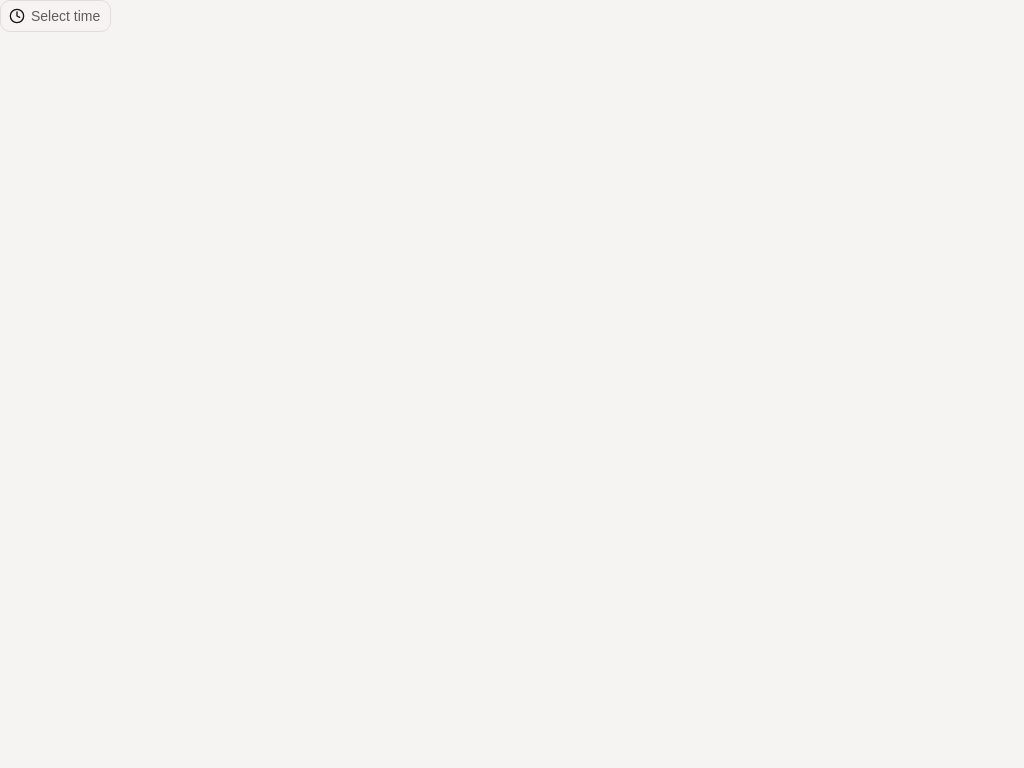
Test: TimePicker › keyboard › selects with Enter
This screenshot has width=1024, height=768.
Click the button: [56, 16] box x1=0 y1=0 x2=111 y2=32
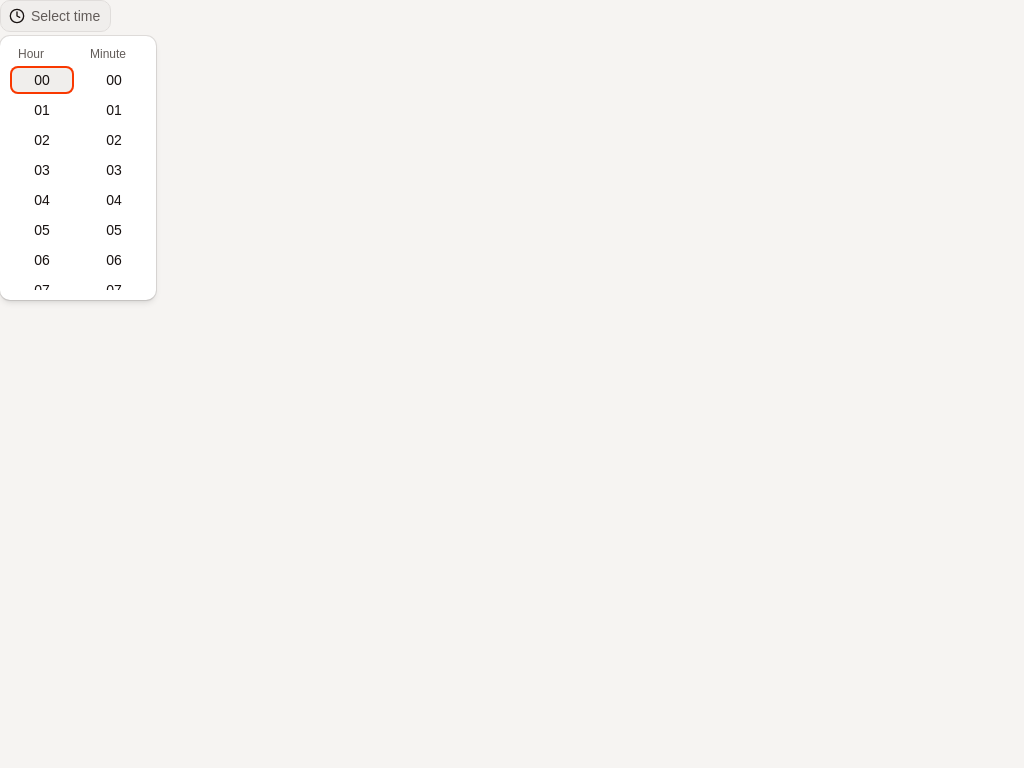
Press Arrowdown Enter
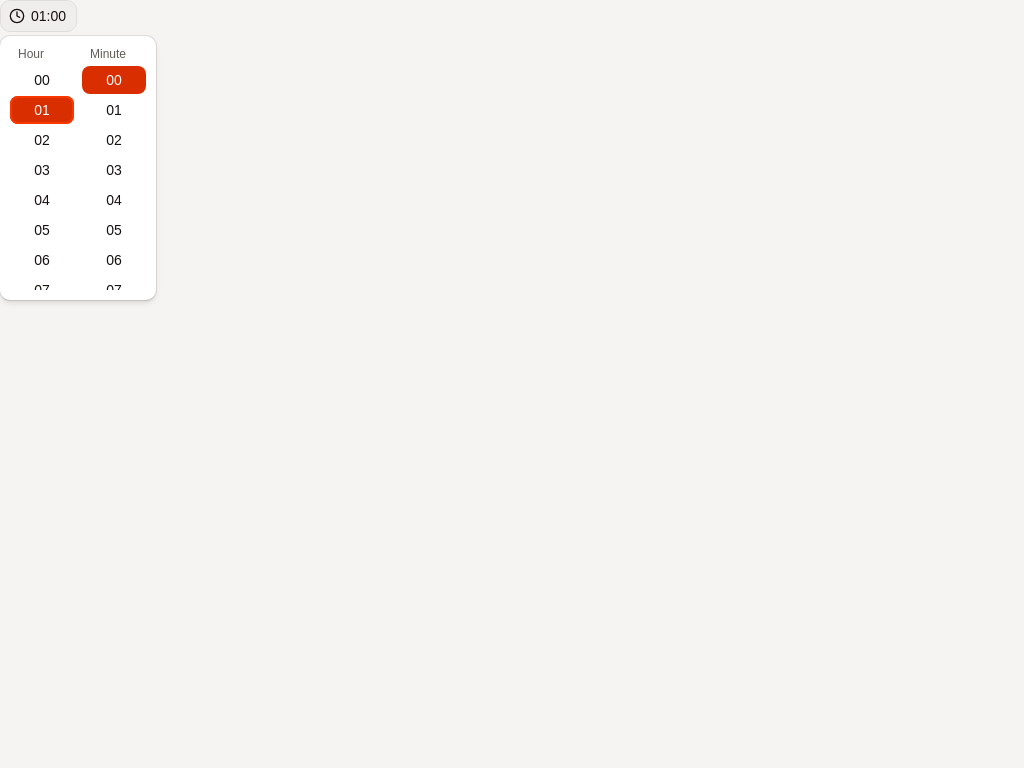
Press Arrowright Arrowdown Enter
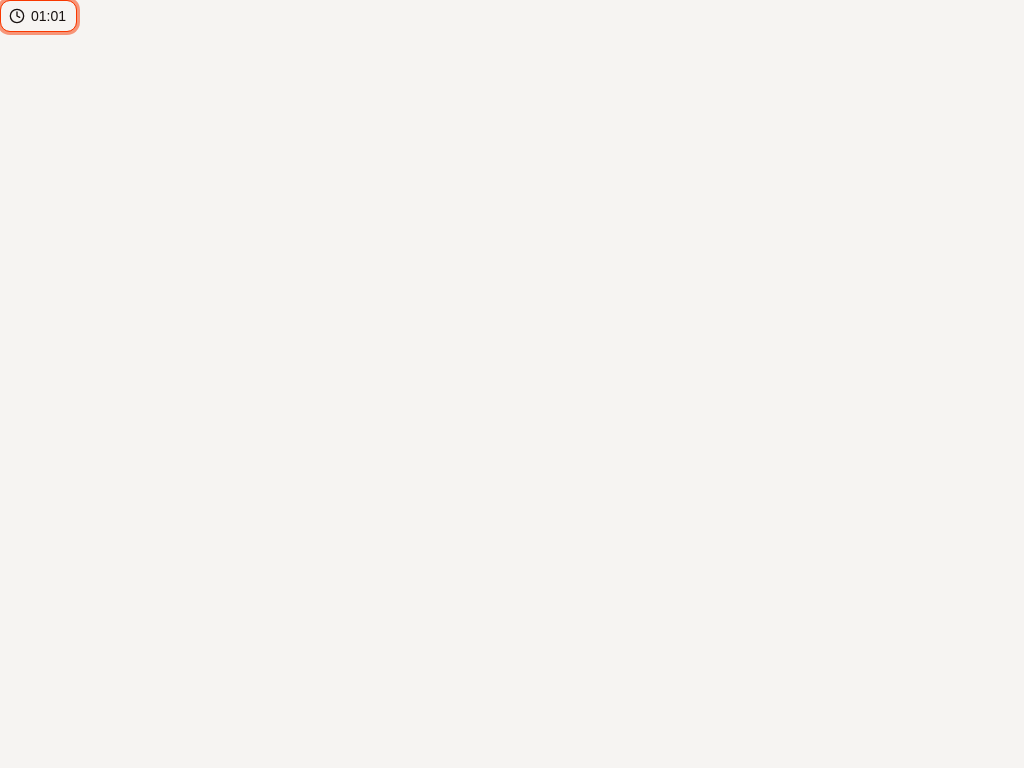
Expected: the list is gone
